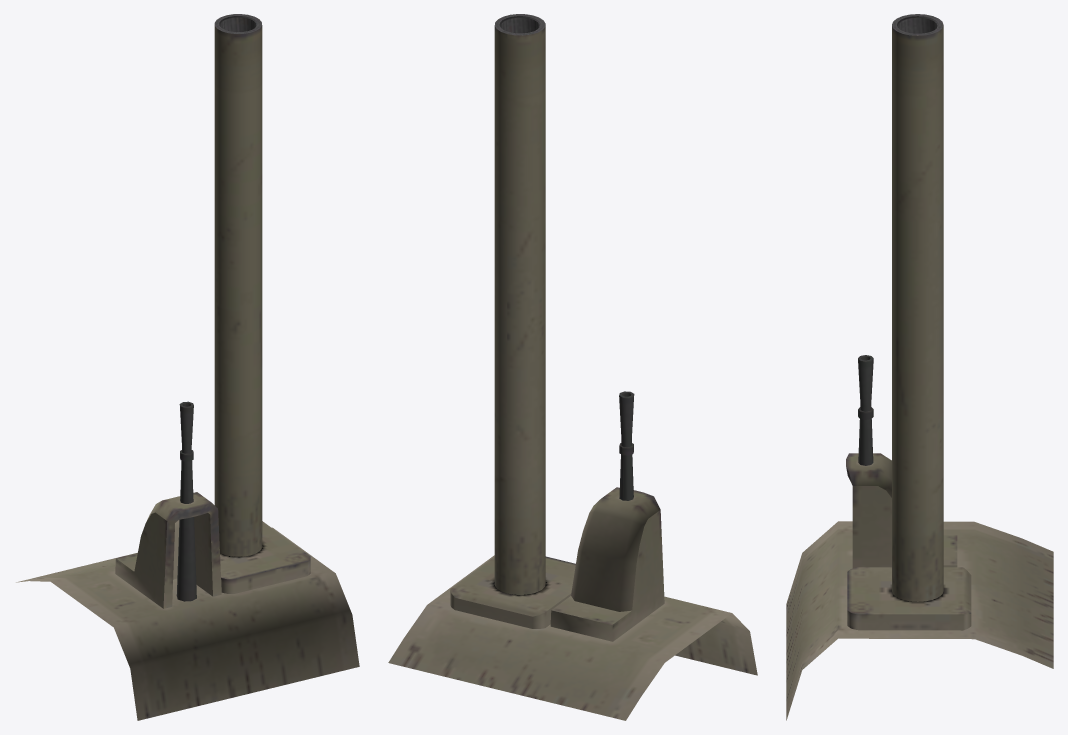
Rendered from Gun_06.glb.
The picture shows the model from 3 angles, left to right: view 1: azimuth 30°, elevation 25°; view 2: azimuth 150°, elevation 25°; view 3: azimuth 270°, elevation 25°; orthographic projection. The views are drawn at different scales.
Parts seen in each view (by area): view 1: set_0_group_0; view 2: set_0_group_0; view 3: set_0_group_0.
Part boxes in pixels (x1,y1,x2,y2): set_0_group_0: [16, 14, 359, 720]; set_0_group_0: [388, 14, 757, 720]; set_0_group_0: [786, 14, 1053, 720].
Bounding box in the file's own units: 0.5352 × 1.41 × 0.5146.
Materials: 1 (1 with a texture image).
